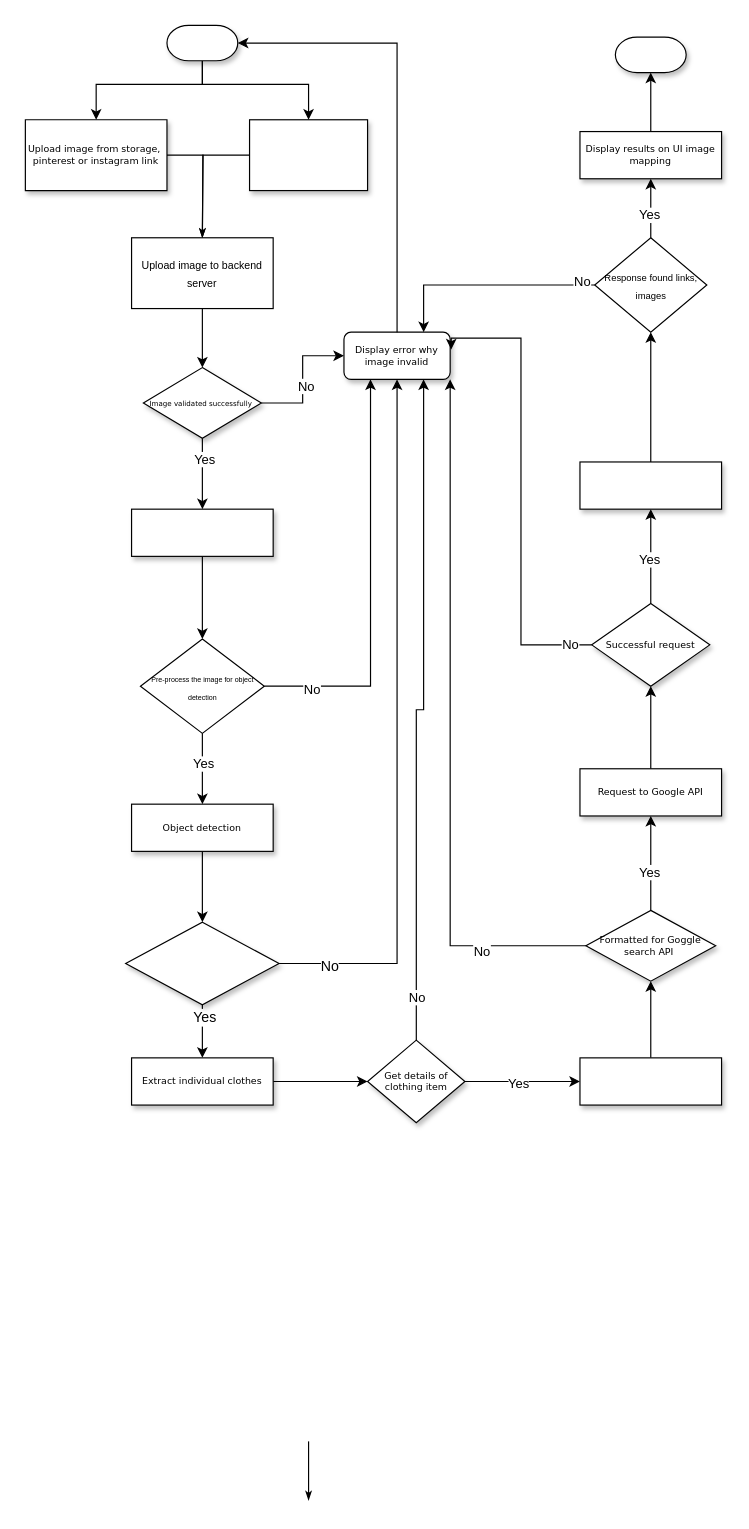
This 749x1529 diagram has some shape labels left out. Each missing label, with the centre of its shape:
"Create API query on items" goes at (x=651, y=1082).
"End" goes at (x=651, y=56).
"Image pre-processing" goes at (x=203, y=534).
"Machine learning model isolates clothes" goes at (x=203, y=964).
"Process API response" goes at (x=651, y=486).
"Start" goes at (x=203, y=44).
"Upload image through in built camera" goes at (x=309, y=156).
